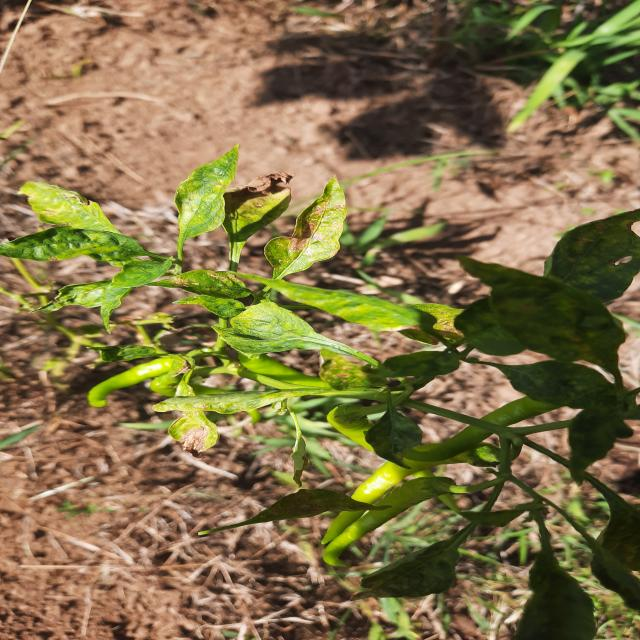bercak_daun: (270, 175, 360, 287), (218, 164, 297, 268)
